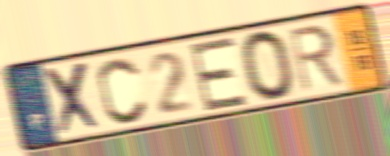2: (149, 48, 196, 118)
C: (95, 55, 151, 126)
E: (187, 34, 251, 114)
O: (238, 28, 298, 104)
R: (286, 22, 346, 95)
X: (42, 58, 106, 139)
